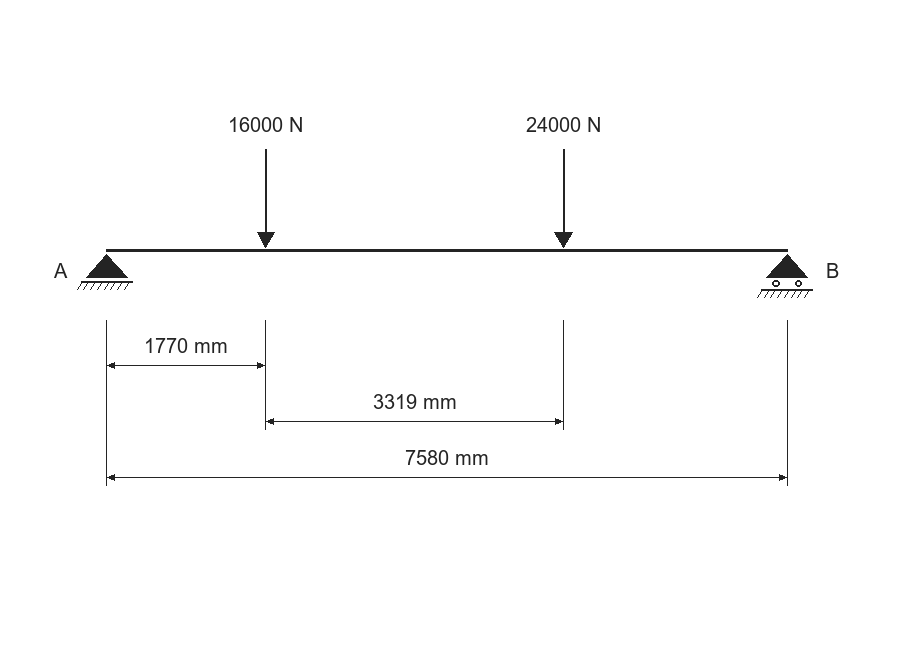pin_support: (77, 254, 133, 290)
point_load: (554, 149, 573, 248), (257, 149, 275, 248)
roller_support: (757, 254, 813, 298)
